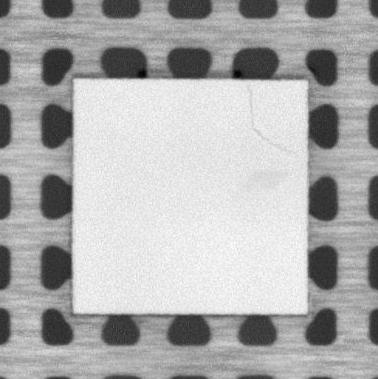DIE_CRACK: (245, 84, 295, 154)
